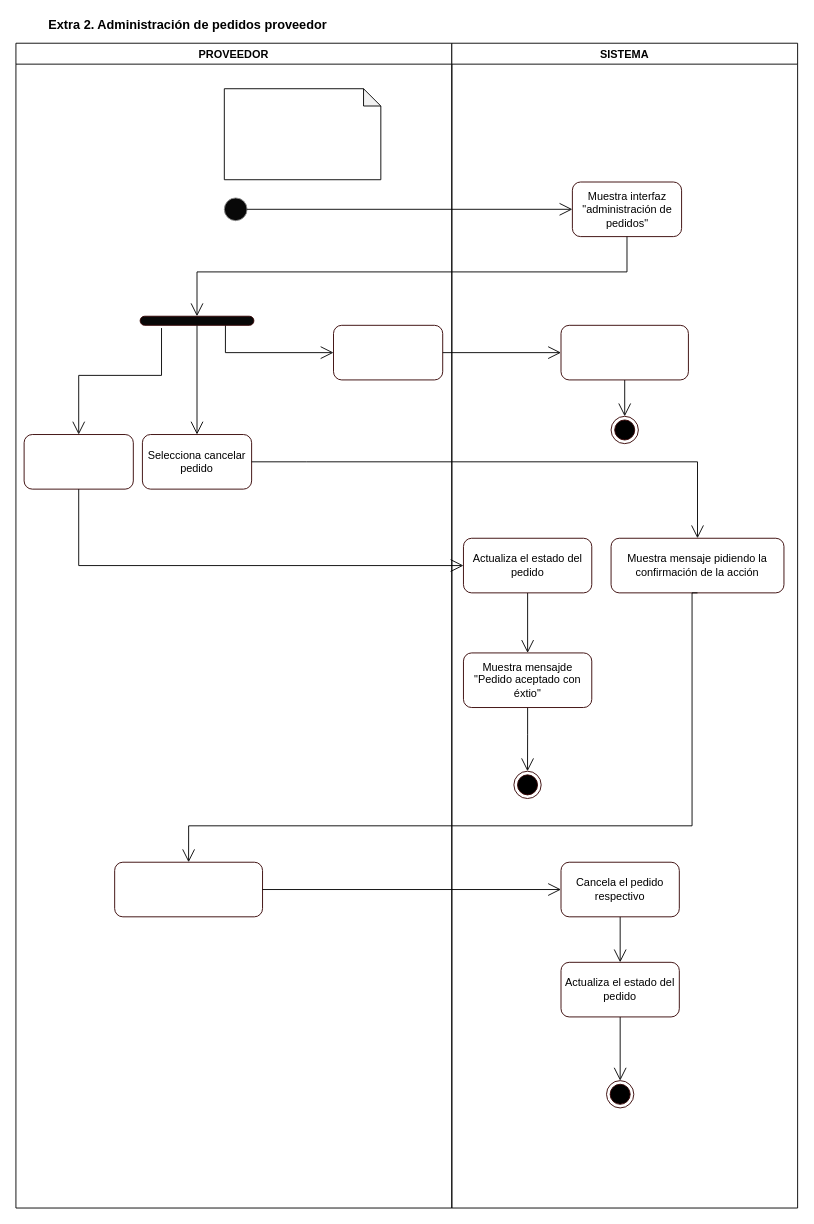
The diagram is 814 pixels wide and 1224 high, and some of its shapes have lost their labels. The shapes that lost their labels are listed below. From the top down, each one's centre as x and y in pixels, then its label:
At (302,134): "Este flujo se inicia cuando el proveedor selecciona lista de pedidos".
At (388,352): "Selecciona ver detalle de pedido".
At (624,352): "Muestra los detalles del pedido seleccionado".
At (78,461): "Selecciona aceptar pedido".
At (188,889): "Confirma la realización de la acción".
